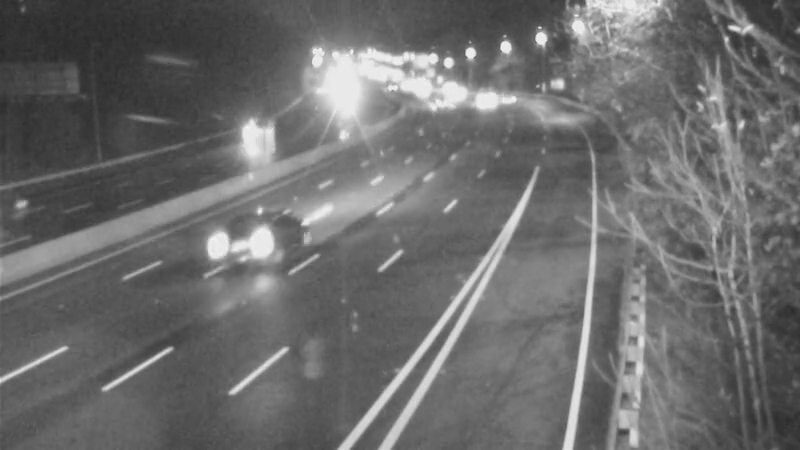vehicle: (196, 201, 276, 281), (459, 78, 509, 128), (481, 71, 531, 121), (408, 75, 458, 125), (227, 117, 277, 167)
